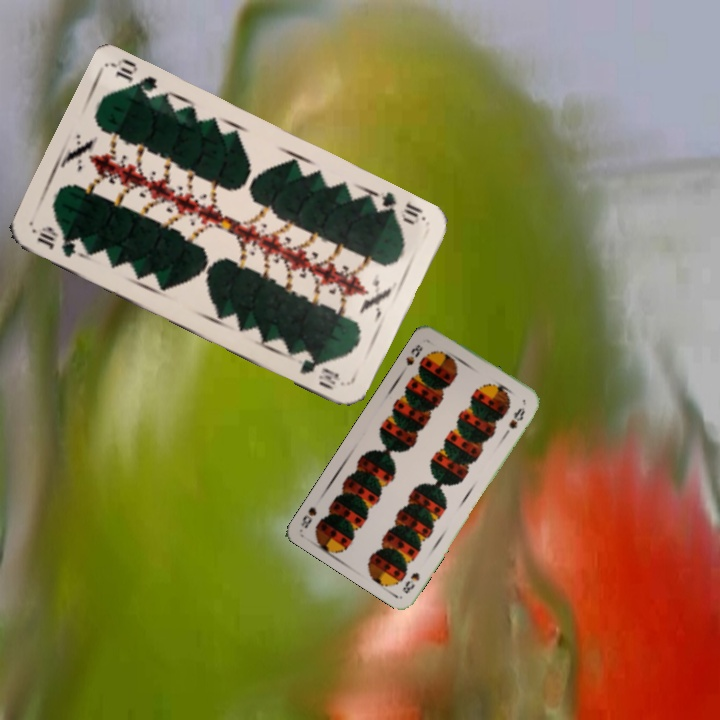G10: (369, 188, 428, 228), (33, 223, 79, 260)
S8: (398, 568, 422, 596), (402, 340, 425, 368)
